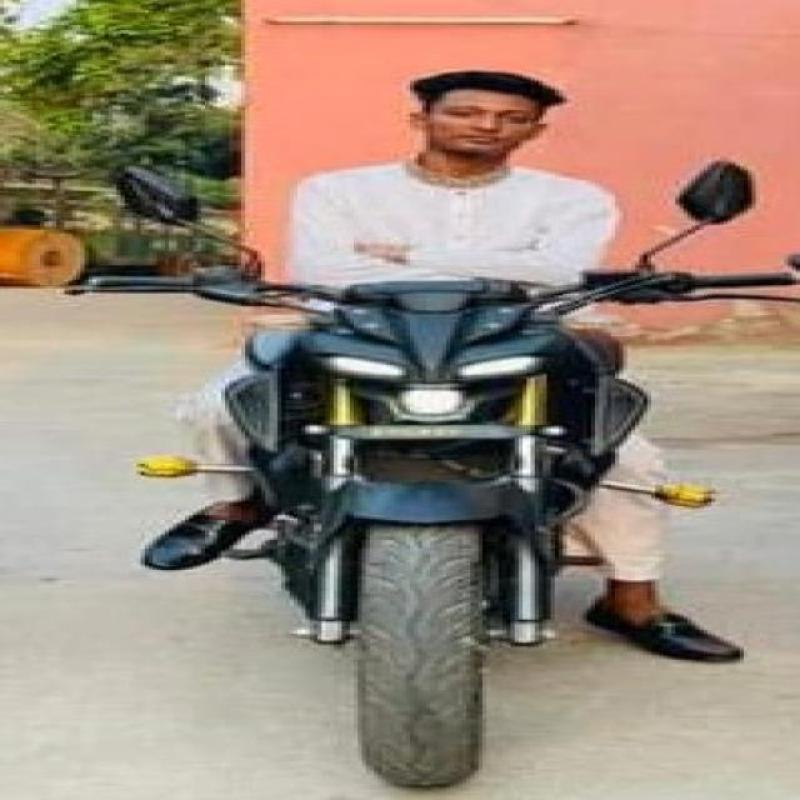nohelmet: (356, 66, 572, 168)
